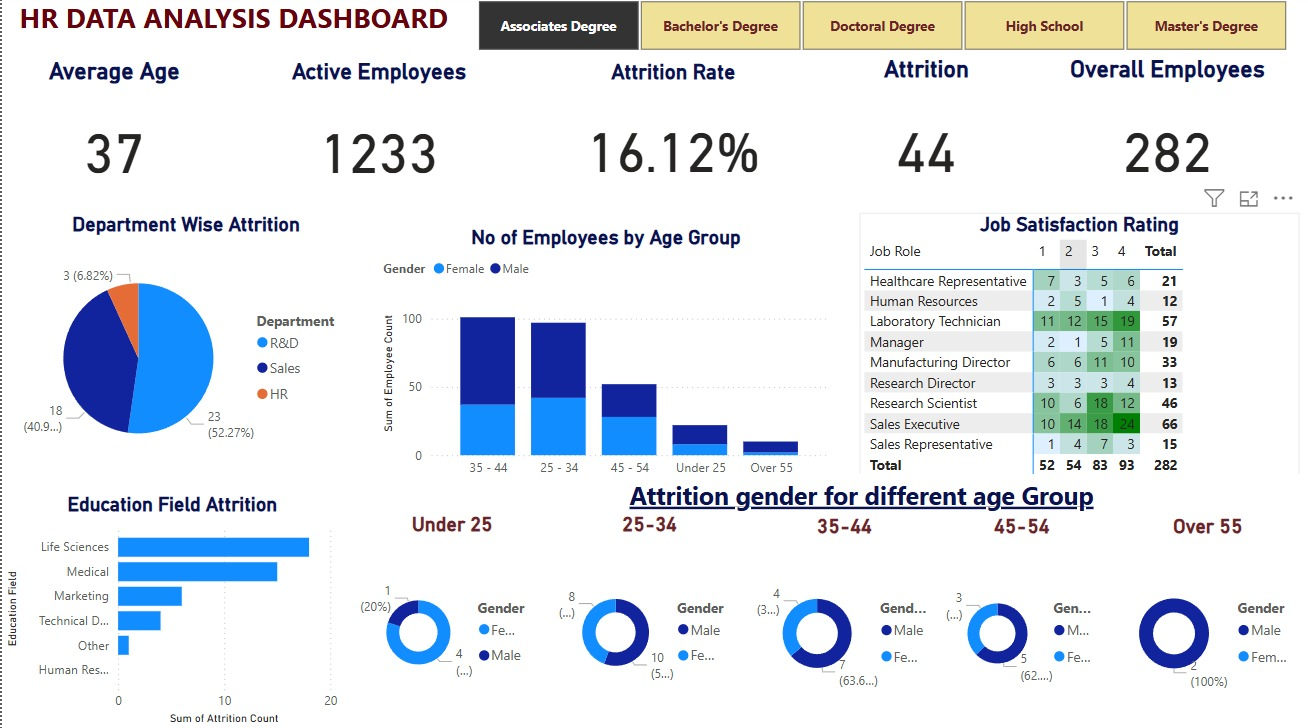

Layout of this report page (visuals, bound fields, positions):
{"tool":"powerbi","page":{"name":"Page 1","canvas":[1280,720],"ordinal":0},"visuals":[{"type":"card","title":"Overall Employees","fields":{"Values":["Sum(HR data.Employee Count)"]},"box":[1000.1,59.7,279.9,150.5],"z":0},{"type":"card","title":"Attrition","fields":{"Values":["Sum(HR data.Attrition Count)"]},"box":[791.2,59.7,226.4,150.5],"z":1000},{"type":"card","title":"Attrition Rate","fields":{"Values":["Avg(HR data.Attrition Rate)"]},"box":[543.6,63.4,225.2,146.8],"z":2000},{"type":"card","title":"Active Employees","fields":{"Values":["Min(HR data.Active employees)"]},"box":[252.5,63.4,231.4,146.8],"z":3000},{"type":"card","title":"Average Age","fields":{"Values":["Avg(HR data.Age)"]},"box":[12.4,61,195.3,149.3],"z":4000},{"type":"textbox","box":[12.4,0,668,49.8],"z":5000},{"type":"pivotTable","title":"Job Satisfaction Rating","fields":{"Values":["Sum(HR data.Employee Count)"],"Rows":["HR data.Job Role"],"Columns":["HR data.Job Satisfaction"]},"box":[838.4,214,430.4,263.7],"z":6000},{"type":"columnChart","title":"No of Employees by Age Group","fields":{"Category":["HR data.CF_age band"],"Y":["Sum(HR data.Employee Count)"],"Series":["HR data.Gender"]},"box":[368.2,227.6,445.3,263.7],"z":7000},{"type":"pieChart","title":"Department Wise Attrition","fields":{"Category":["HR data.Department"],"Y":["Sum(HR data.Attrition Count)"]},"box":[13.7,214,333.4,263.7],"z":8000},{"type":"barChart","title":"Education Field Attrition","fields":{"Category":["HR data.Education Field"],"Y":["Sum(HR data.Attrition Count)"]},"box":[0,488.3,333.3,231.7],"z":9000},{"type":"textbox","box":[402.9,470,877.1,42.9],"z":10000},{"type":"donutChart","title":"Under 25","fields":{"Category":["HR data.Gender"],"Y":["Sum(HR data.Attrition Count)"],"Series":["HR data.CF_age band"]},"box":[344.3,507.1,191.4,212.9],"z":11000},{"type":"donutChart","title":"25-34","fields":{"Series":["HR data.CF_age band"],"Y":["Sum(HR data.Attrition Count)"],"Category":["HR data.Gender"]},"box":[535.7,507.1,195.7,212.9],"z":12000},{"type":"donutChart","title":"35-44","fields":{"Series":["HR data.CF_age band"],"Y":["Sum(HR data.Attrition Count)"],"Category":["HR data.Gender"]},"box":[731.4,510,185.7,210],"z":13000},{"type":"donutChart","title":"45-54","fields":{"Series":["HR data.CF_age band"],"Y":["Sum(HR data.Attrition Count)"],"Category":["HR data.Gender"]},"box":[914.3,510,165.7,210],"z":14000},{"type":"donutChart","title":"Over 55","fields":{"Series":["HR data.CF_age band"],"Y":["Sum(HR data.Attrition Count)"],"Category":["HR data.Gender"]},"box":[1080,510,200,210],"z":15000},{"type":"slicer","fields":{"Values":["HR data.Education"]},"box":[440,0,840,61.4],"z":16000}]}

Visuals, with their boxes in screenshot pixels (x1, y1, x2, y2), scaled from the page's 1280x720 canvas onto the 1308x728 screenshot:
"Overall Employees" card: region(1022, 60, 1307, 213)
"Attrition" card: region(809, 60, 1040, 213)
"Attrition Rate" card: region(555, 64, 786, 213)
"Active Employees" card: region(258, 64, 494, 213)
"Average Age" card: region(13, 62, 212, 213)
textbox: region(13, 0, 695, 50)
"Job Satisfaction Rating" pivotTable: region(857, 216, 1297, 483)
"No of Employees by Age Group" columnChart: region(376, 230, 831, 497)
"Department Wise Attrition" pieChart: region(14, 216, 355, 483)
"Education Field Attrition" barChart: region(0, 494, 341, 727)
textbox: region(412, 475, 1307, 519)
"Under 25" donutChart: region(352, 513, 547, 727)
"25-34" donutChart: region(547, 513, 747, 727)
"35-44" donutChart: region(747, 516, 937, 727)
"45-54" donutChart: region(934, 516, 1104, 727)
"Over 55" donutChart: region(1104, 516, 1307, 727)
slicer - HR data.Education: region(450, 0, 1307, 62)
